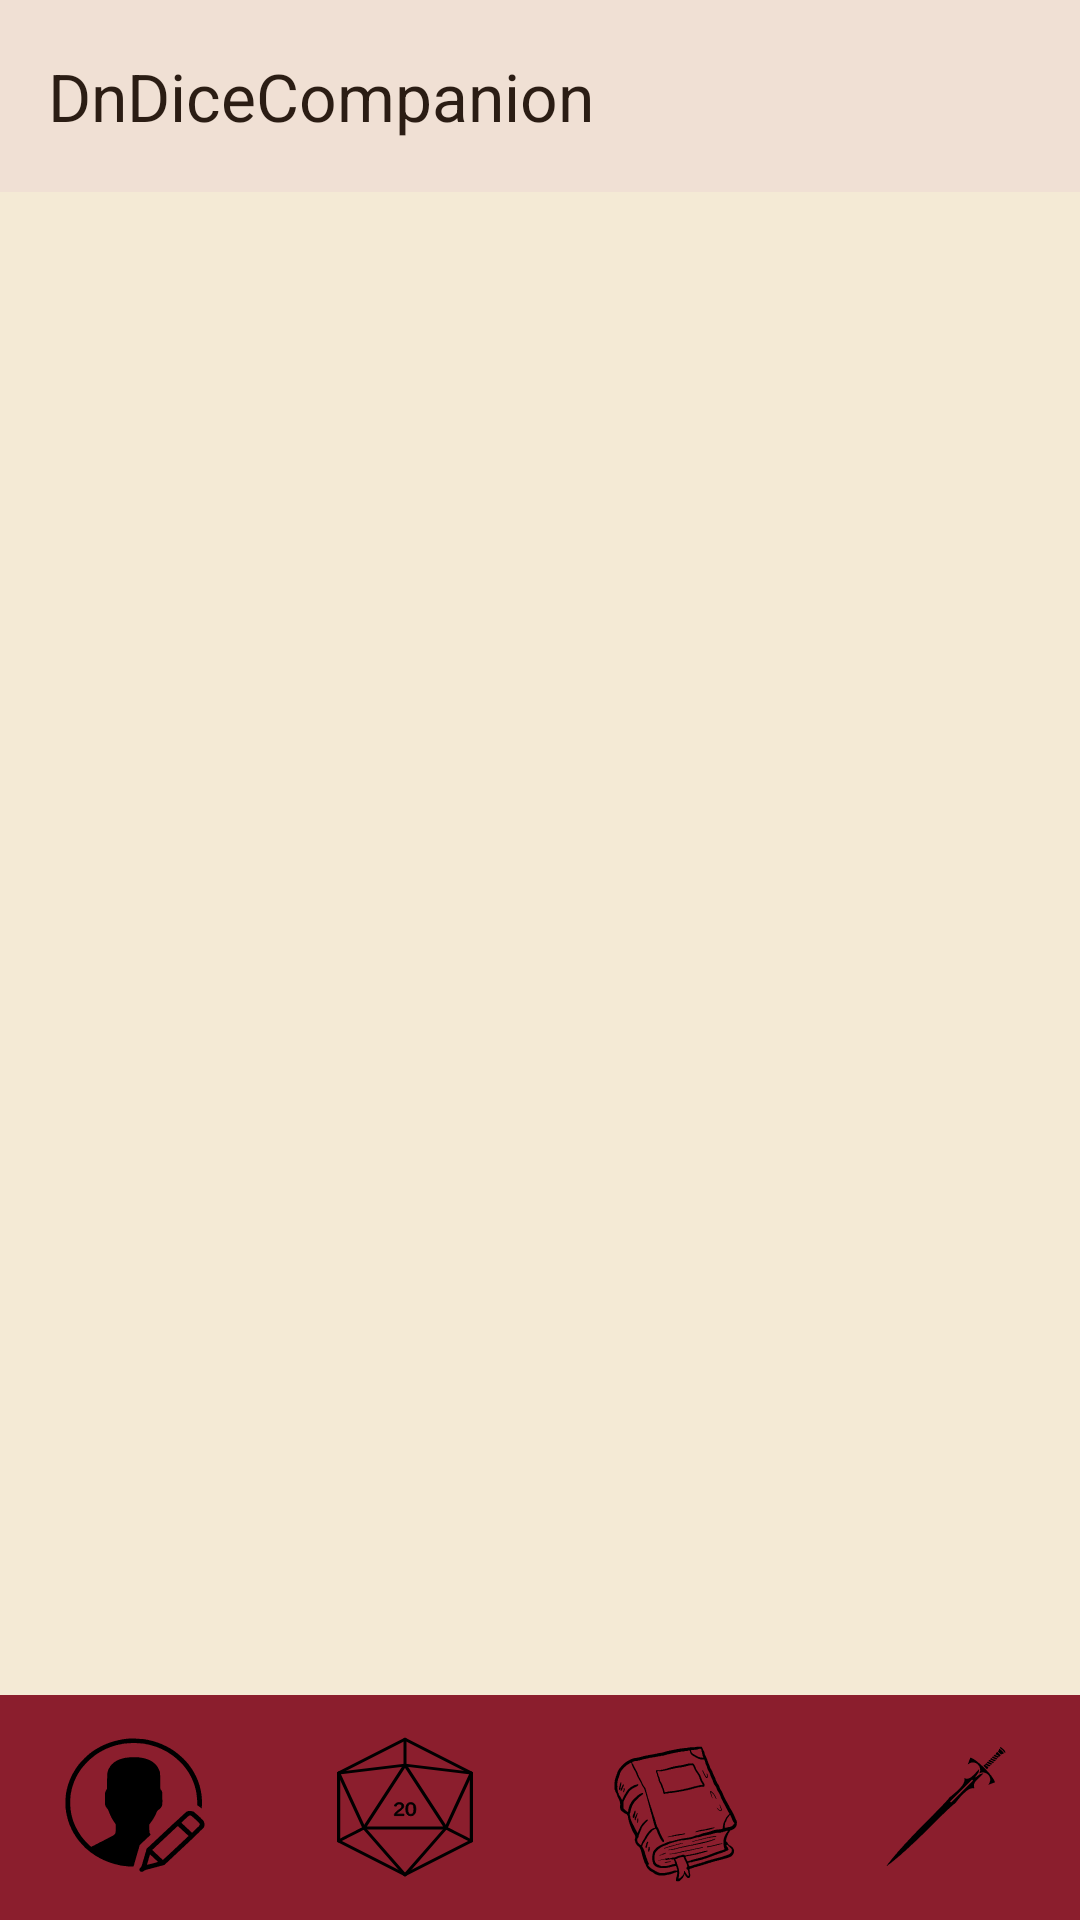

Icons on this 1080x1920 Android screen, each with the point to tap as [x,y]:
Armes: [946,1806]
Daus: [405,1807]
Màgies: [675,1814]
Personatges: [135,1805]
